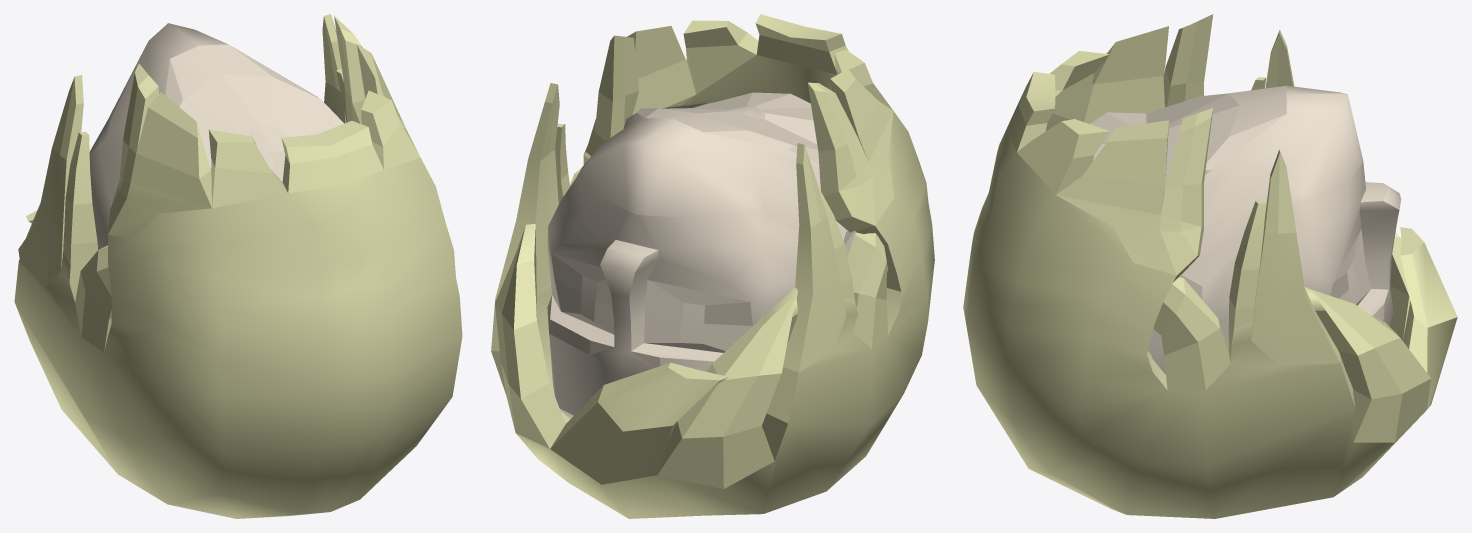
The model's file is VC_Avatar_Head_BaseF_01_With_Hair_02.fbx.
3 views of the same model, side by side, from view 1: azimuth 30°, elevation 25°; view 2: azimuth 150°, elevation 25°; view 3: azimuth 270°, elevation 25° (orthographic).
Parts seen in each view (by area): view 1: VC_Avatar_Hair_02, VC_Avatar_Head_Base2; view 2: VC_Avatar_Hair_02, VC_Avatar_Head_Base2; view 3: VC_Avatar_Hair_02, VC_Avatar_Head_Base2.
Part boxes in pixels (x1,y1,x2,y2): VC_Avatar_Hair_02: (14,14,462,518); VC_Avatar_Head_Base2: (89,23,343,249); VC_Avatar_Hair_02: (491,14,934,518); VC_Avatar_Head_Base2: (547,92,856,419); VC_Avatar_Hair_02: (963,14,1457,518); VC_Avatar_Head_Base2: (1089,85,1401,390).
Bounding box in the file's own units: 52.23 × 69.43 × 70.99.
